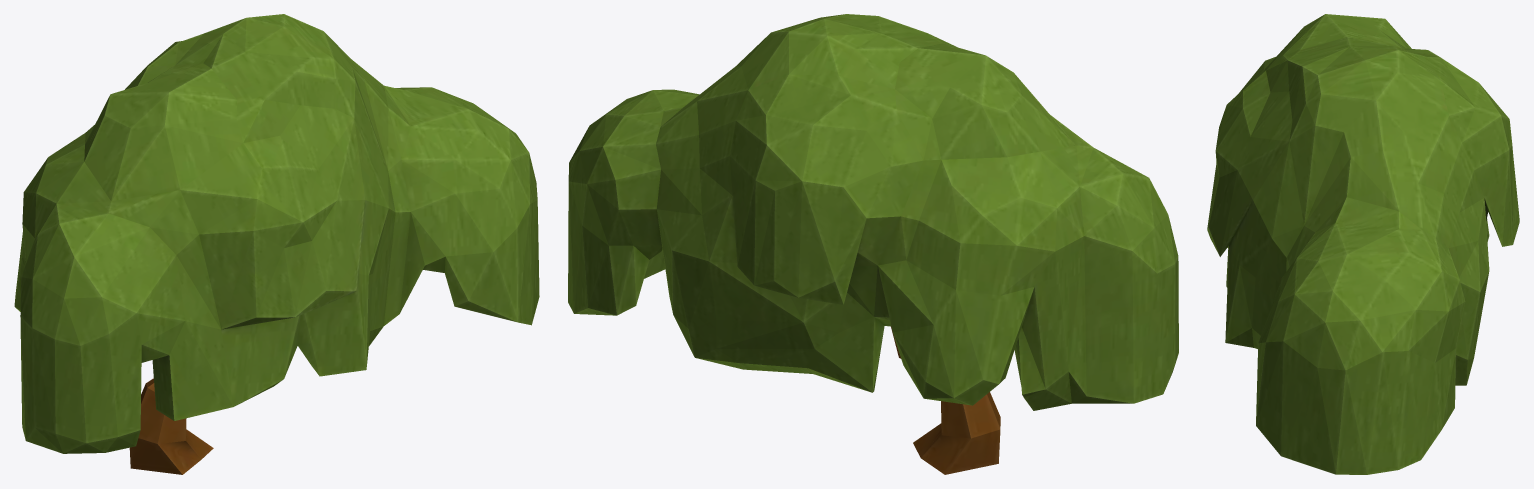
Rendered from 74_FuSwEd0E.glb.
The picture shows the model from 3 angles, left to right: view 1: azimuth 30°, elevation 25°; view 2: azimuth 150°, elevation 25°; view 3: azimuth 270°, elevation 25°; orthographic projection. The views are drawn at different scales.
Parts seen in each view (by area): view 1: WeepingWillowTree_mesh; view 2: WeepingWillowTree_mesh; view 3: WeepingWillowTree_mesh.
Part boxes in pixels (x1,y1,x2,y2): WeepingWillowTree_mesh: (14,14,539,474); WeepingWillowTree_mesh: (568,14,1178,474); WeepingWillowTree_mesh: (1207,14,1519,474).
Bounding box in the file's own units: 1.41 × 1 × 0.7475.
1 material, 1 textured.
